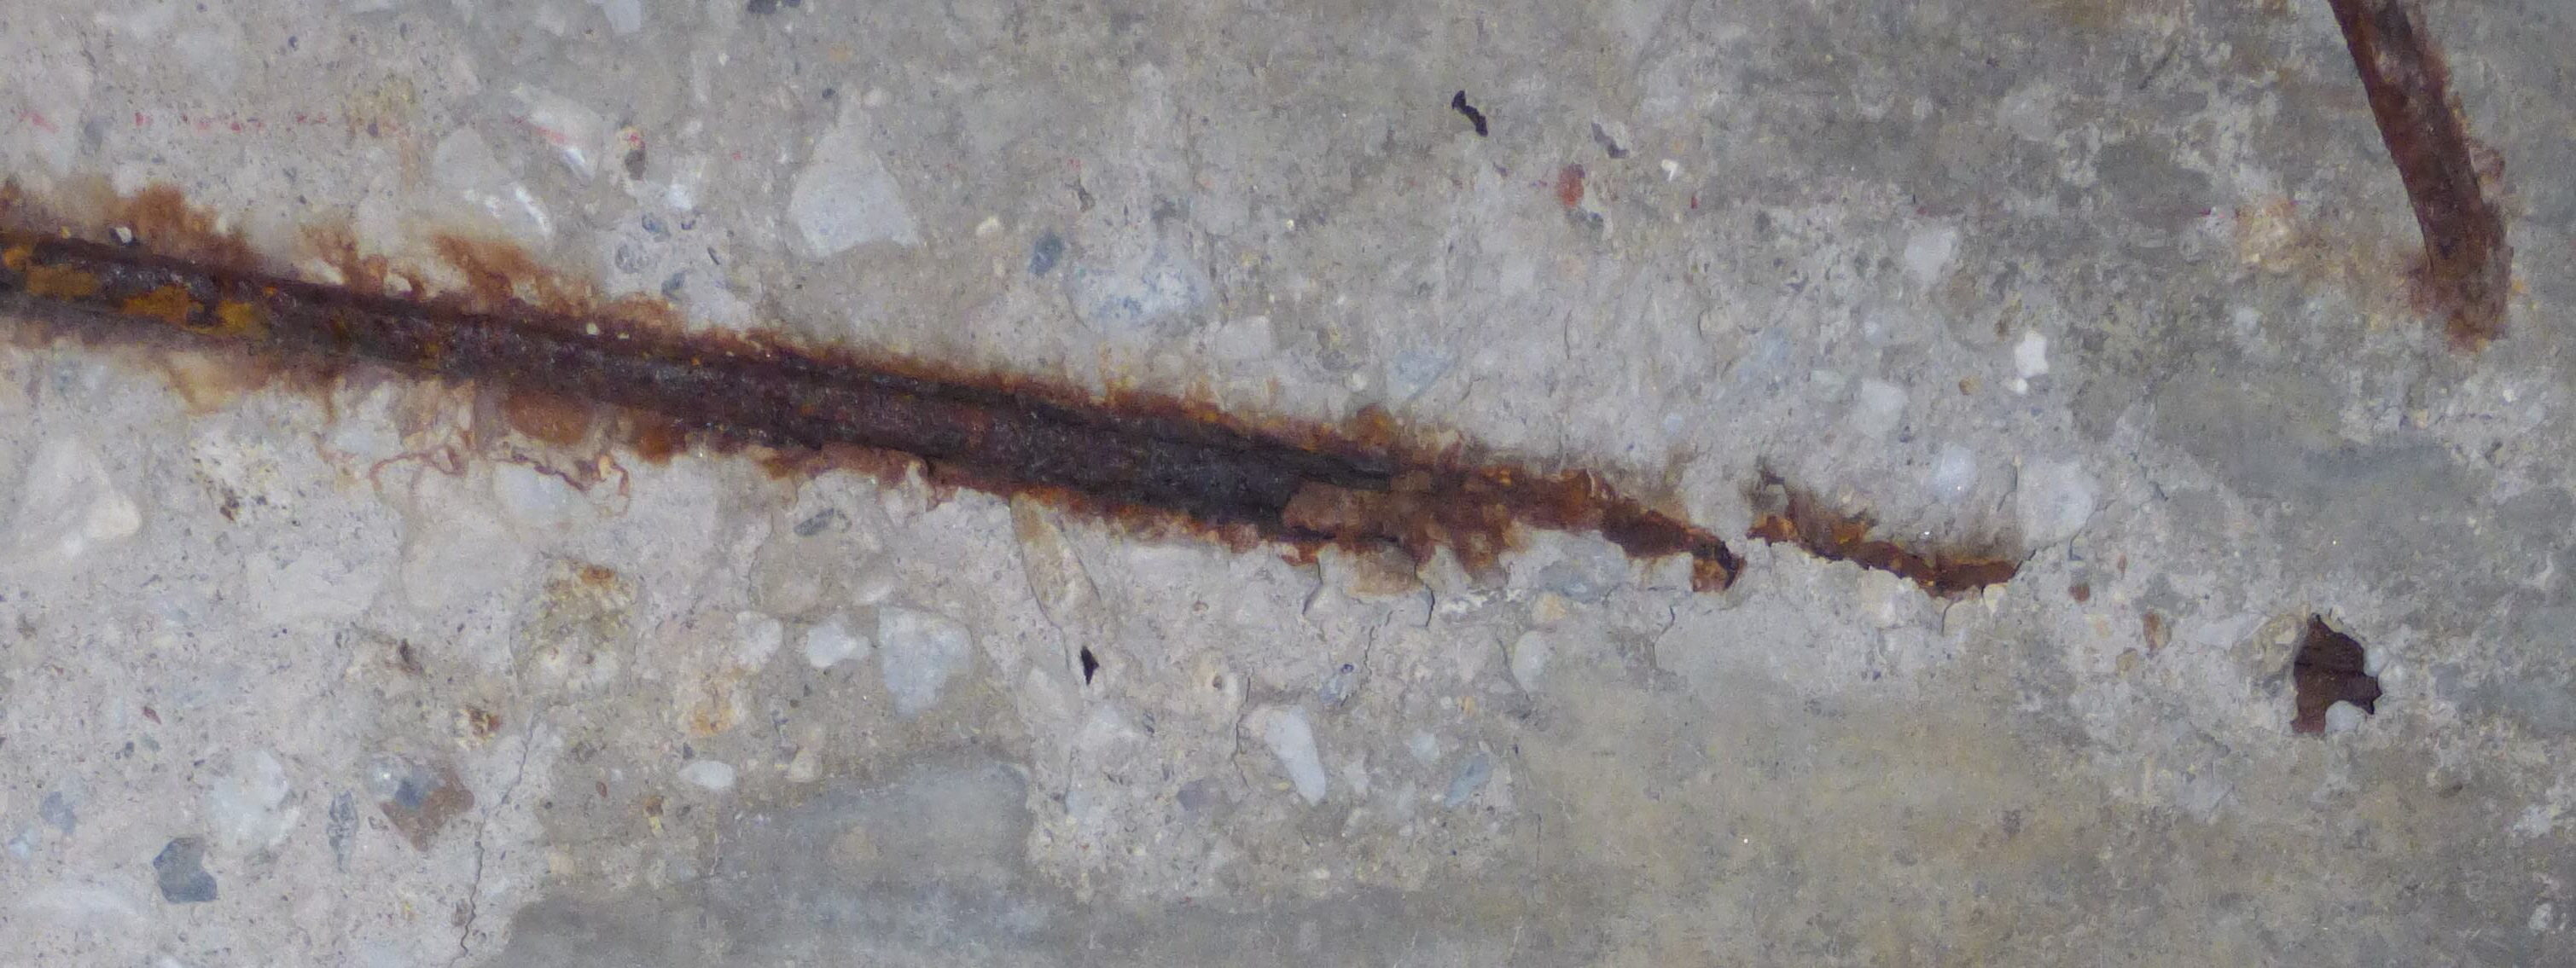Corrosion: (1303, 406, 1741, 600), (1743, 491, 2016, 598), (2290, 613, 2384, 738)
Exposed reinforcement: (2, 228, 1303, 531), (2325, 2, 2505, 343)
